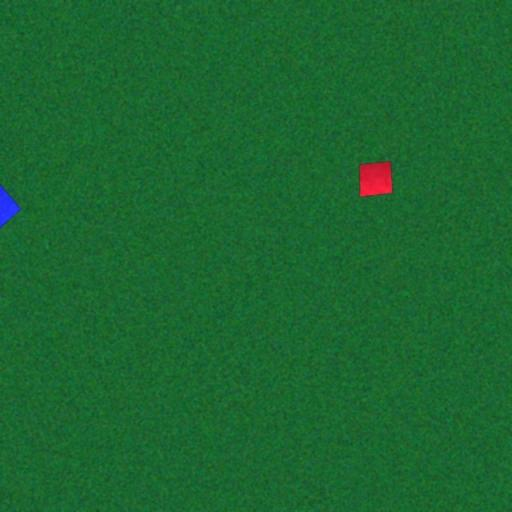BLUE_SQUARE: (0, 163, 22, 251)
RED_SQUARE: (358, 160, 393, 198)
